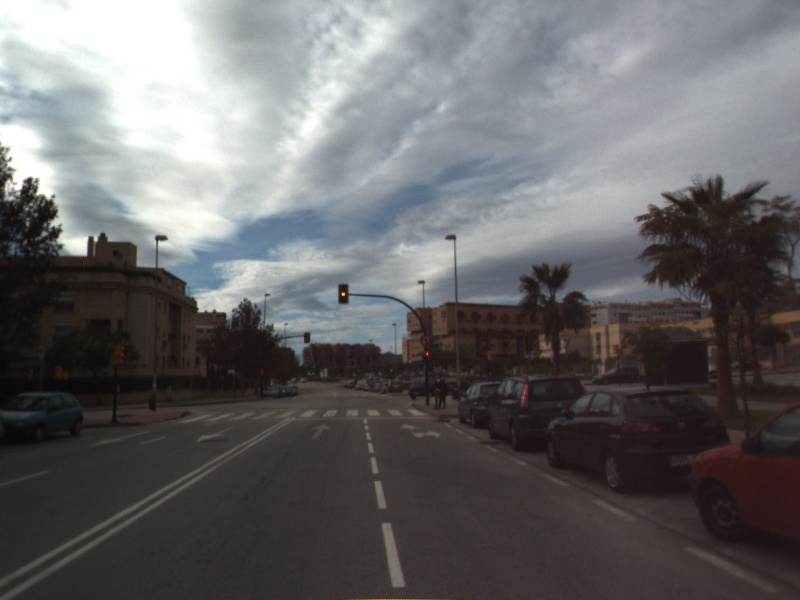STRAIGHT: (309, 421, 334, 440)
STRAIGHT_RIGHT: (398, 421, 443, 440)
